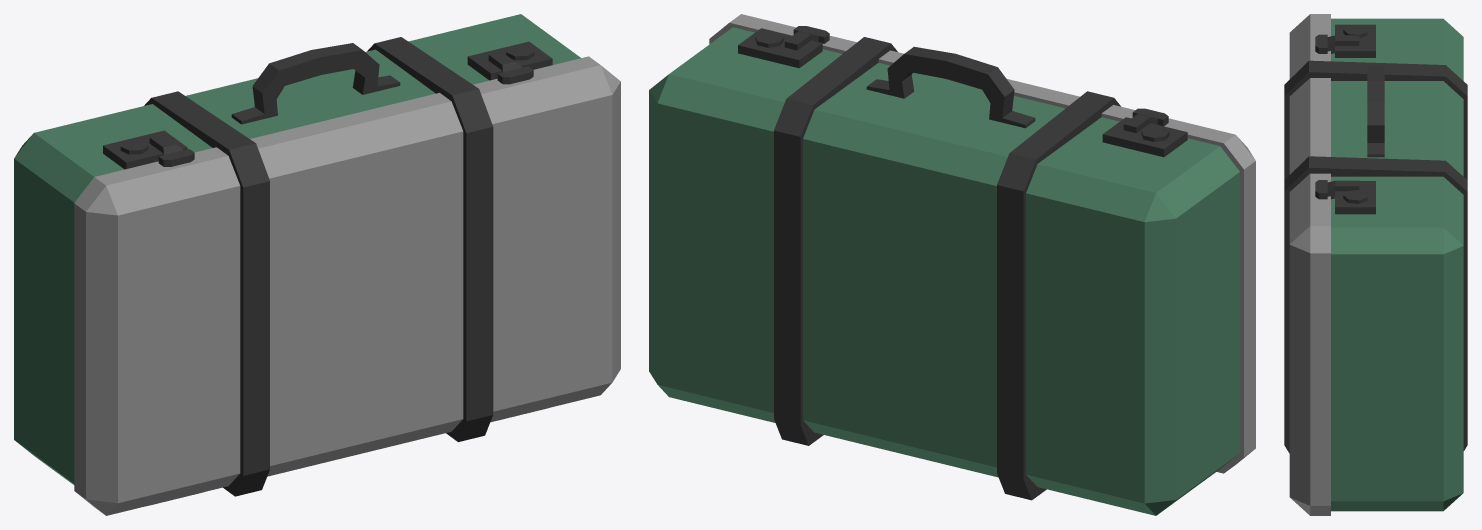
Rendered from Suitcase_02.glb.
The picture shows the model from 3 angles, left to right: view 1: azimuth 30°, elevation 25°; view 2: azimuth 150°, elevation 25°; view 3: azimuth 270°, elevation 25°; orthographic projection. The views are drawn at different scales.
Visible parts, largest first — view 1: Suitcase_2_mesh; view 2: Suitcase_2_mesh; view 3: Suitcase_2_mesh.
Boxes of the visible parts, bbox=[...] form: Suitcase_2_mesh: bbox=[14, 14, 620, 515]; Suitcase_2_mesh: bbox=[649, 14, 1255, 515]; Suitcase_2_mesh: bbox=[1284, 14, 1467, 515].
Size of the model in its own units: 0.7105 by 0.4829 by 0.2403.
1 material, 1 textured.
